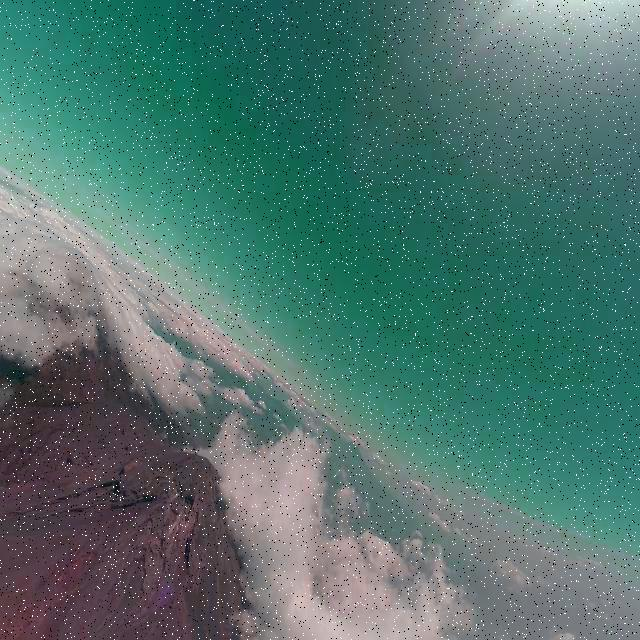Summit: (126, 445, 240, 583)
